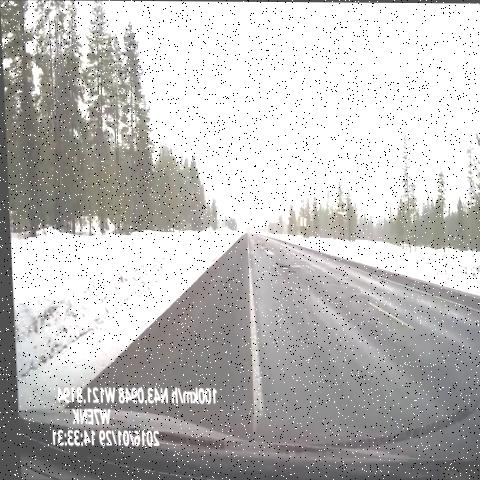pothole: (270, 252, 297, 281), (255, 239, 274, 260)
